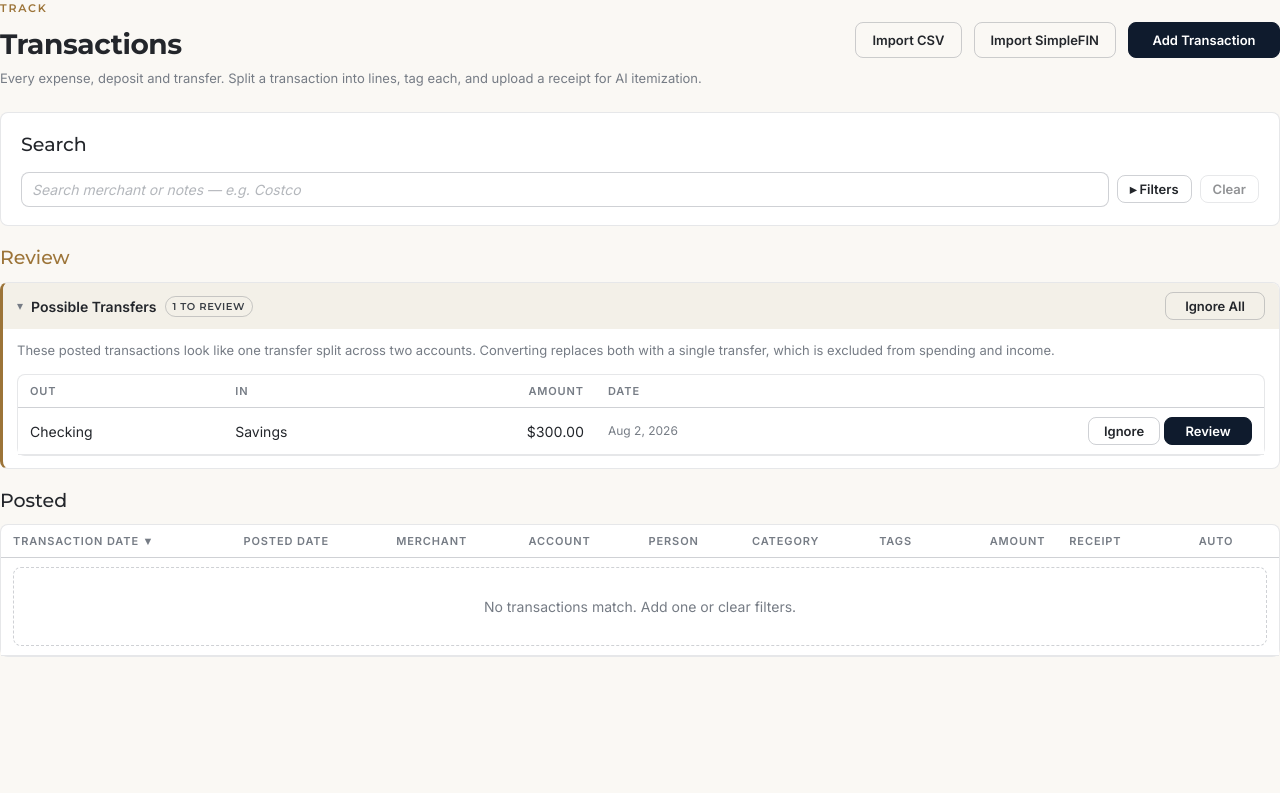
Test: Transactions review section › describes a same-day posted transfer pair
This screenshot has width=1280, height=793.
Click the text "$300.00" at x=500, y=431, box [404,408,596,454]
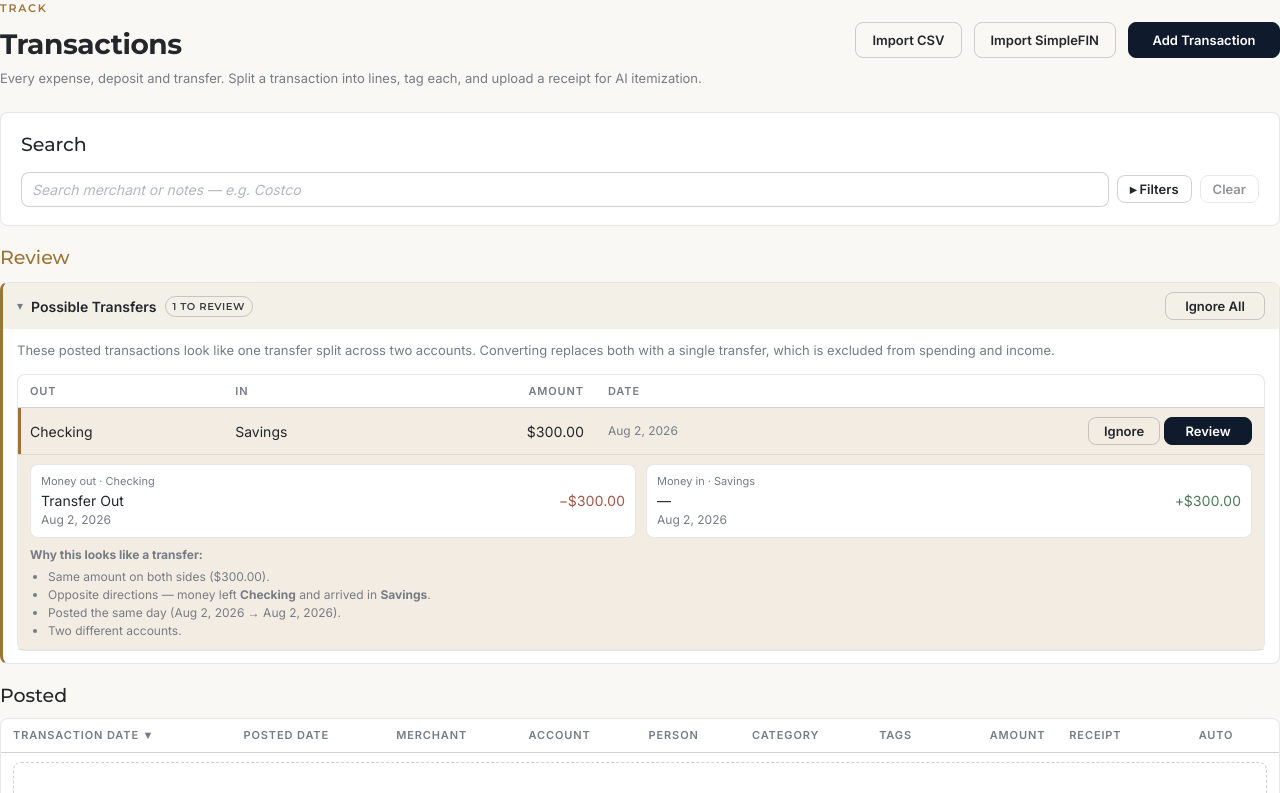
Check: the list item "Posted the same day (Aug 2, 2026 → Aug 2, 2026)." is shown, box [48,604,341,620]
